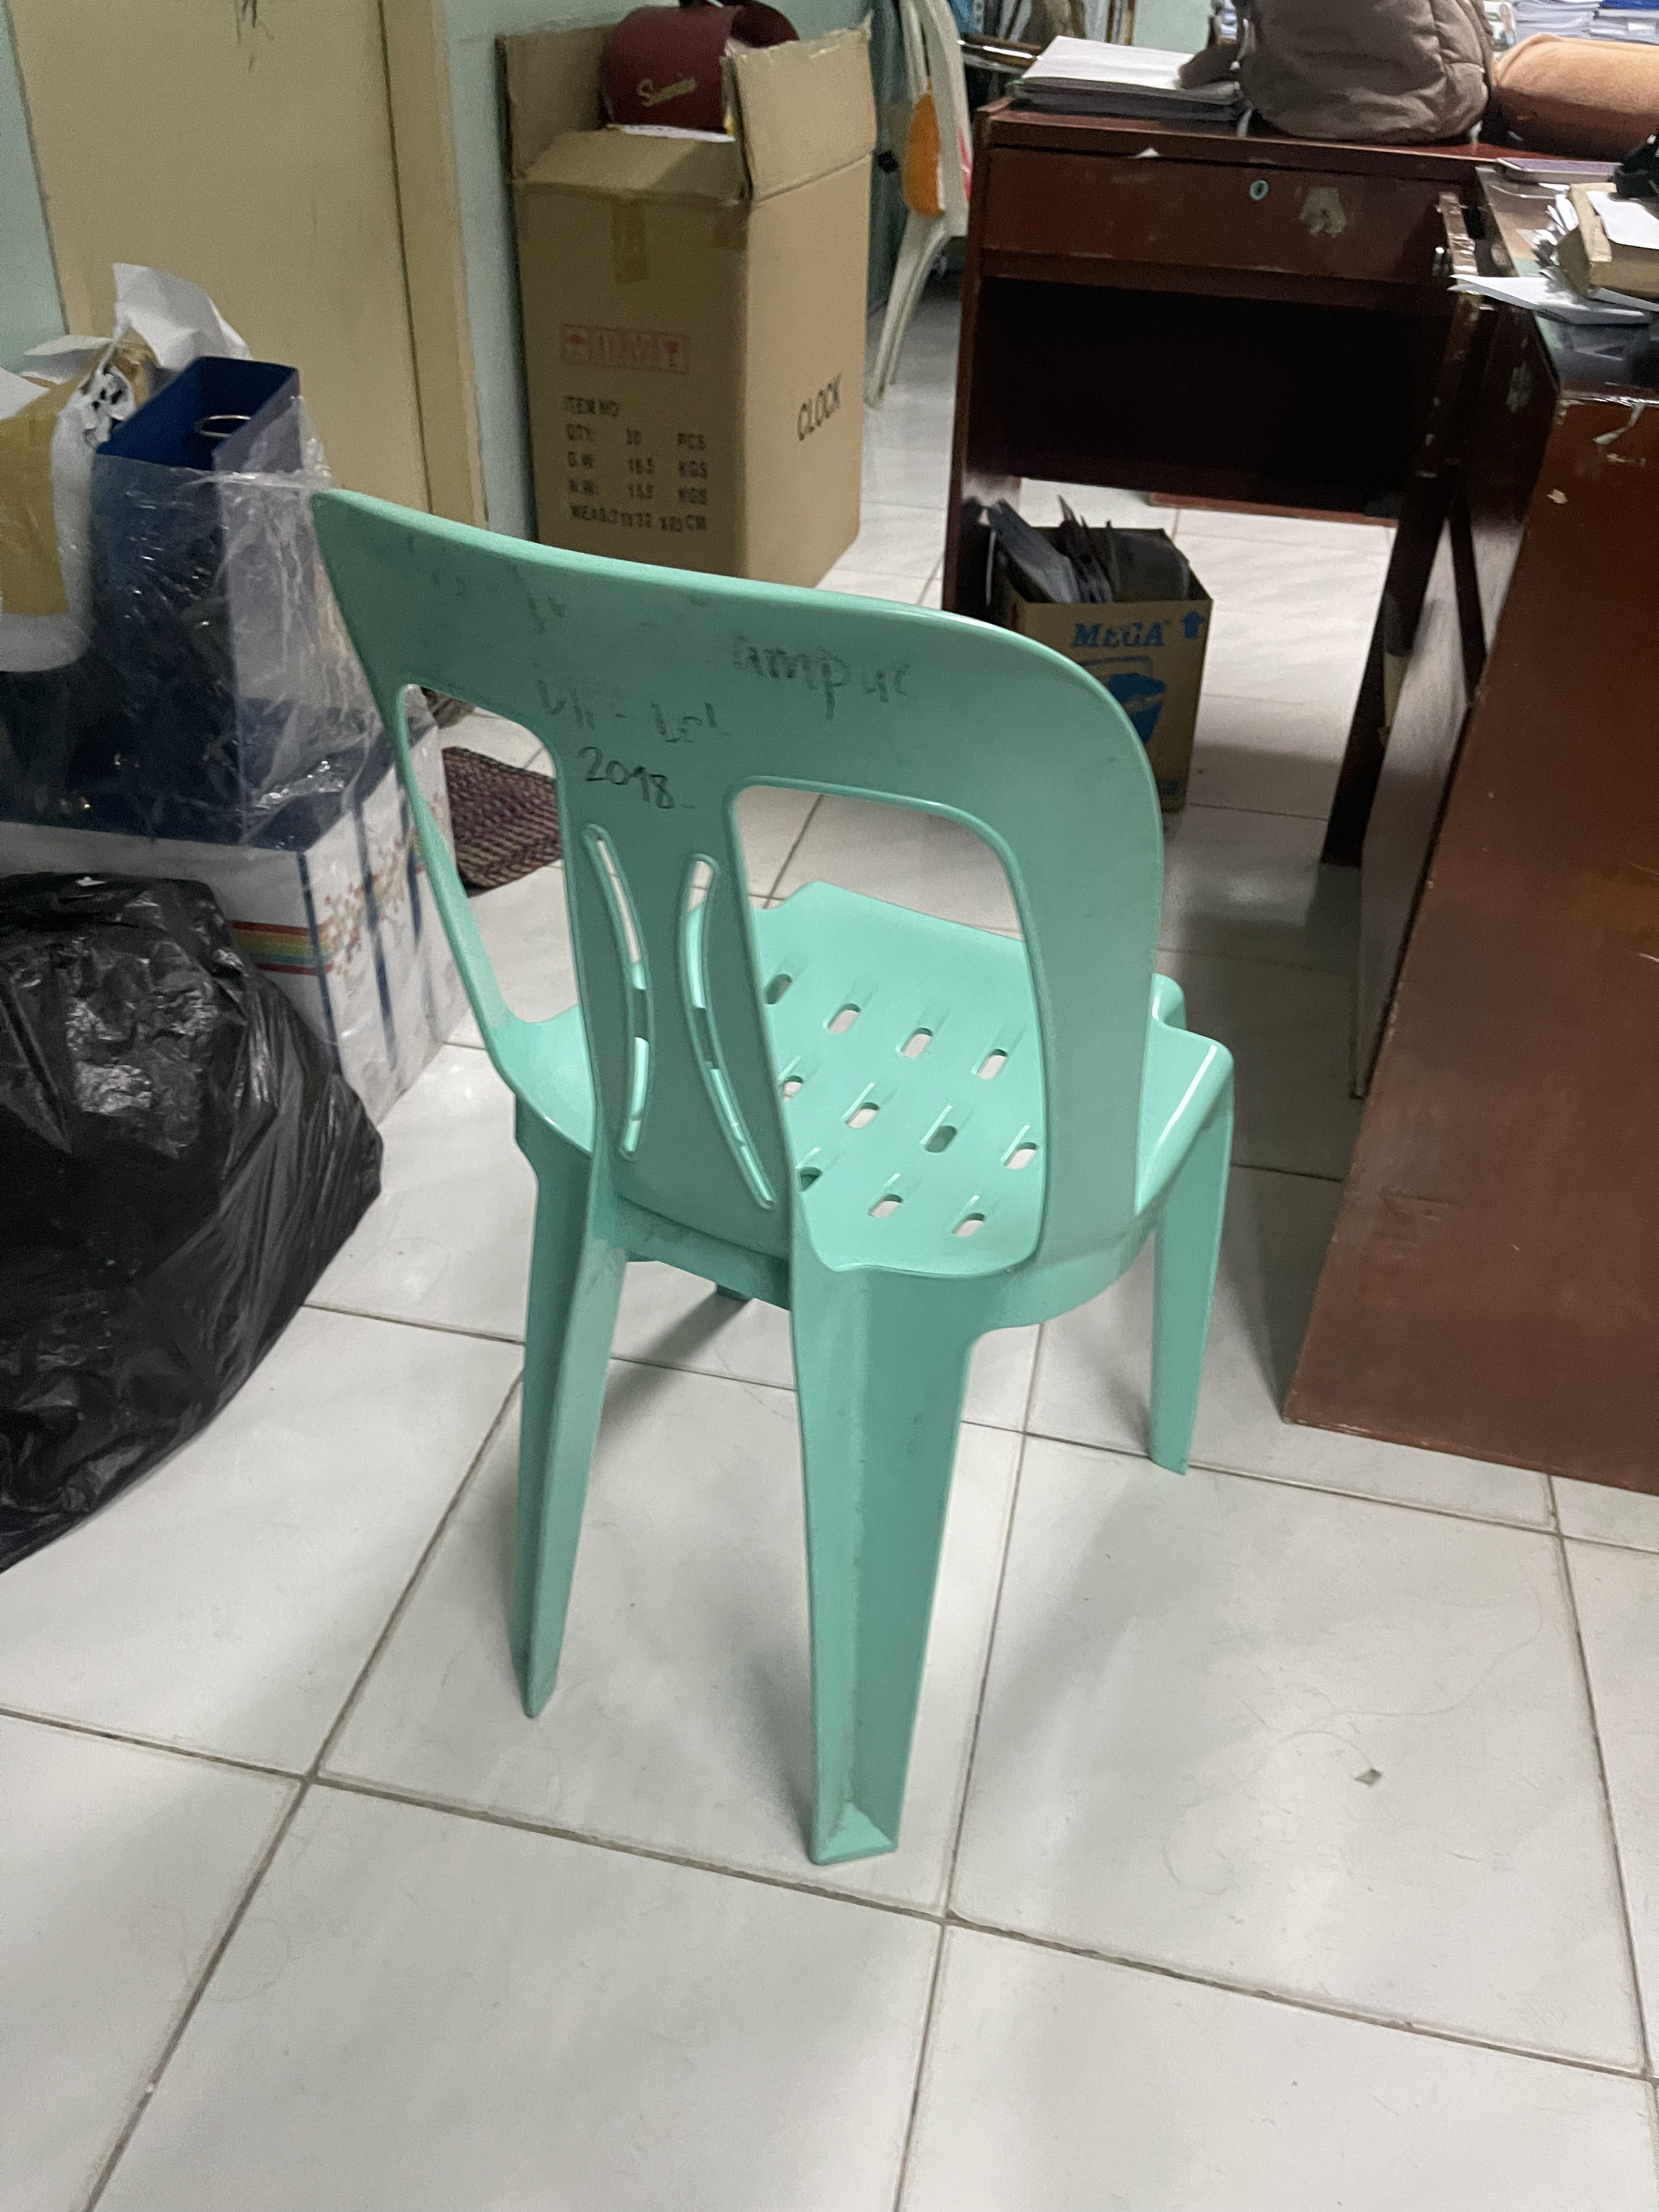chair2: (298, 475, 1256, 1895)
